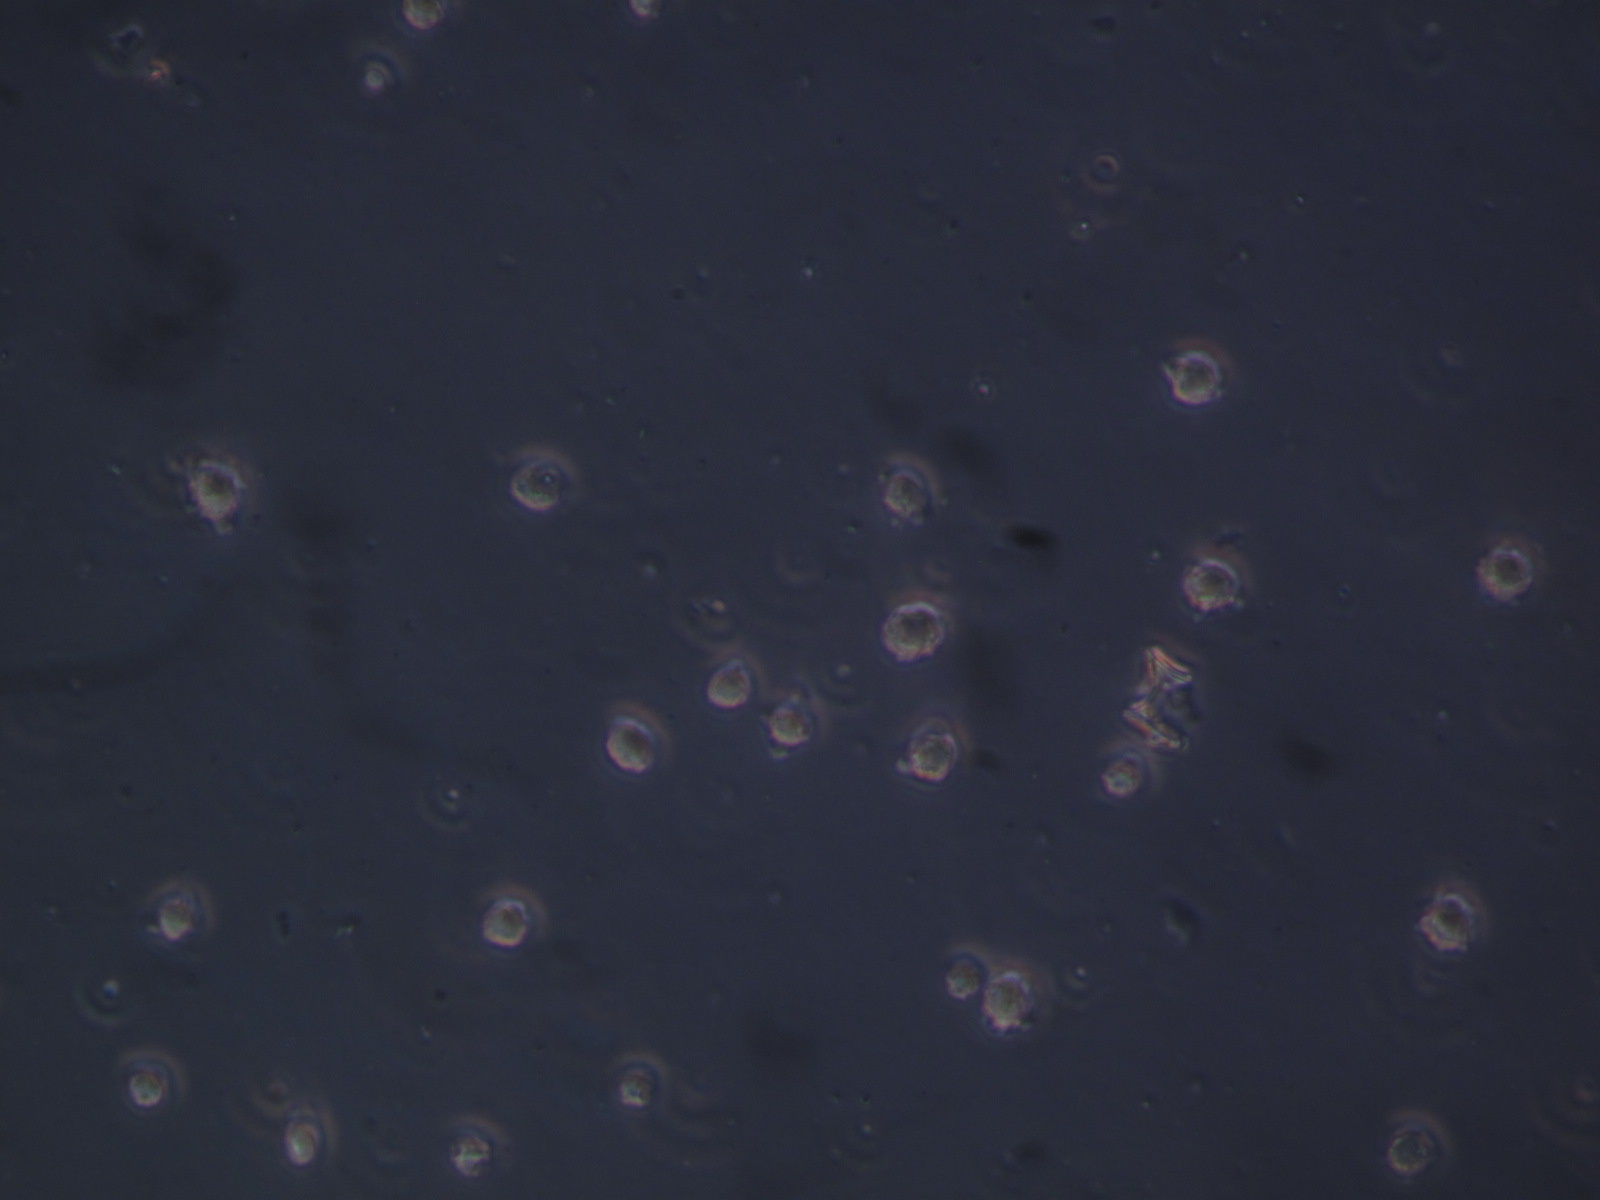hemo: (603, 700, 674, 774), (477, 880, 548, 952), (511, 445, 581, 516), (903, 713, 975, 782), (1186, 541, 1254, 613), (1167, 333, 1235, 405), (116, 1047, 186, 1116), (984, 961, 1051, 1031), (178, 453, 244, 522), (879, 599, 947, 666), (1095, 735, 1165, 799), (879, 446, 944, 516), (1390, 1111, 1454, 1179), (607, 1047, 671, 1116), (150, 877, 214, 944), (283, 1095, 340, 1171), (446, 1112, 510, 1177), (346, 32, 413, 95), (765, 688, 830, 751), (1424, 884, 1484, 952), (706, 645, 766, 710), (1474, 539, 1534, 603), (941, 937, 986, 1001), (399, 1, 449, 37)
